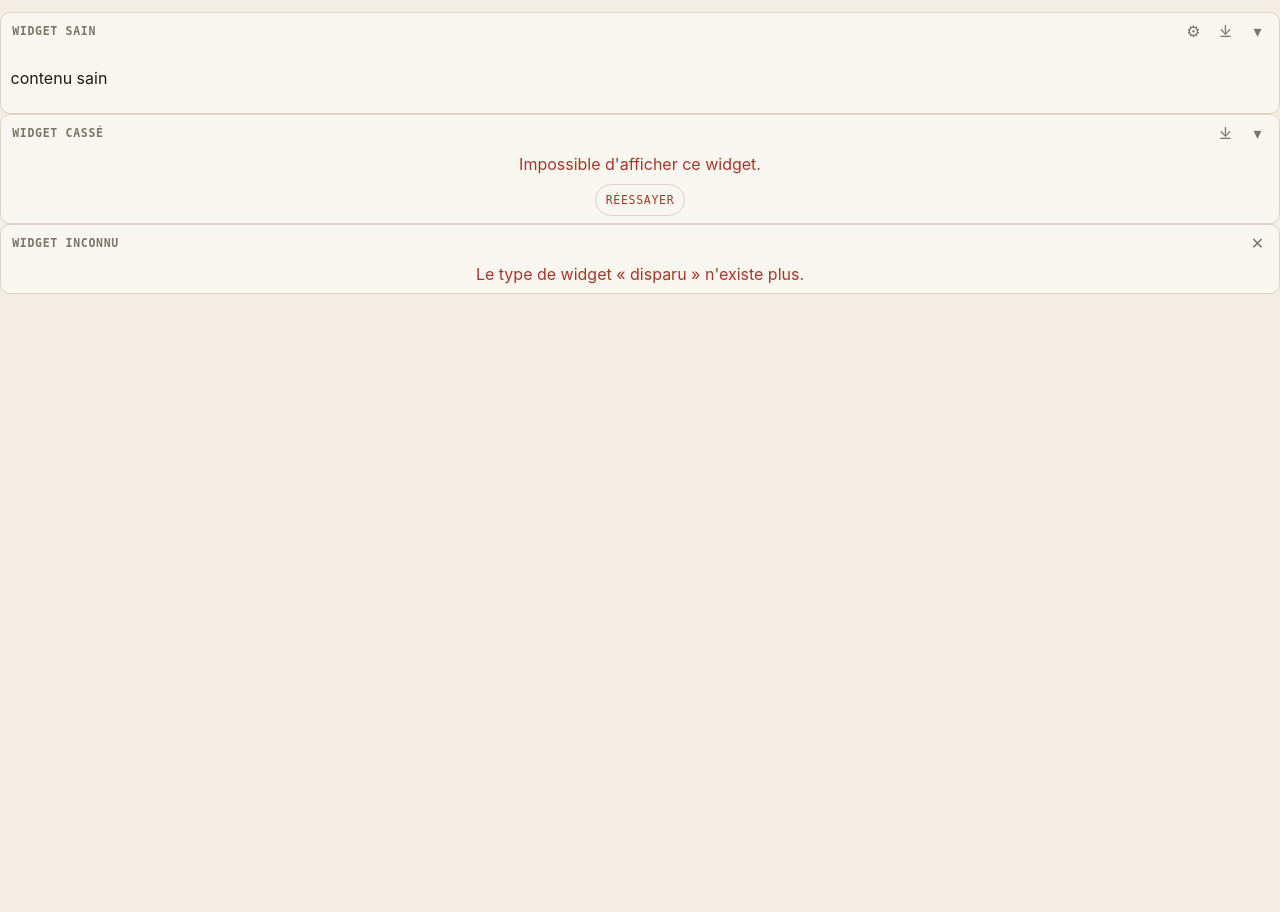
Scenario: WidgetFrame › le bouton d'export appelle exportData et copie le résultat
Click the button named "Exporter : Widget sain". click: (1225, 31)
box: [1209, 15, 1241, 47]
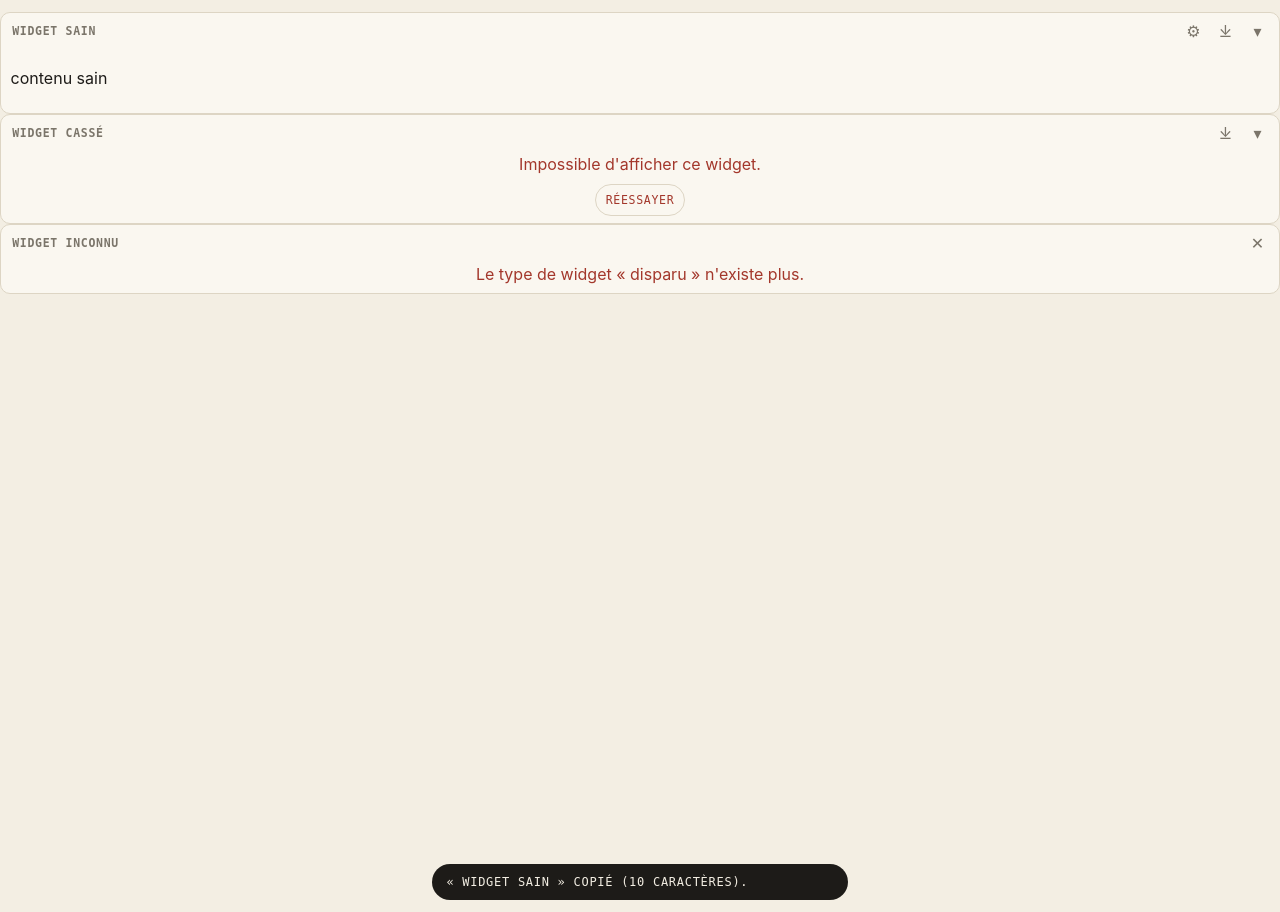
expect the text "« Widget sain » copié (10 caractères)." is shown: met, box [432, 864, 848, 900]
Click the button named "Exporter : Widget cassé". click: (1225, 133)
box: [1209, 117, 1241, 149]
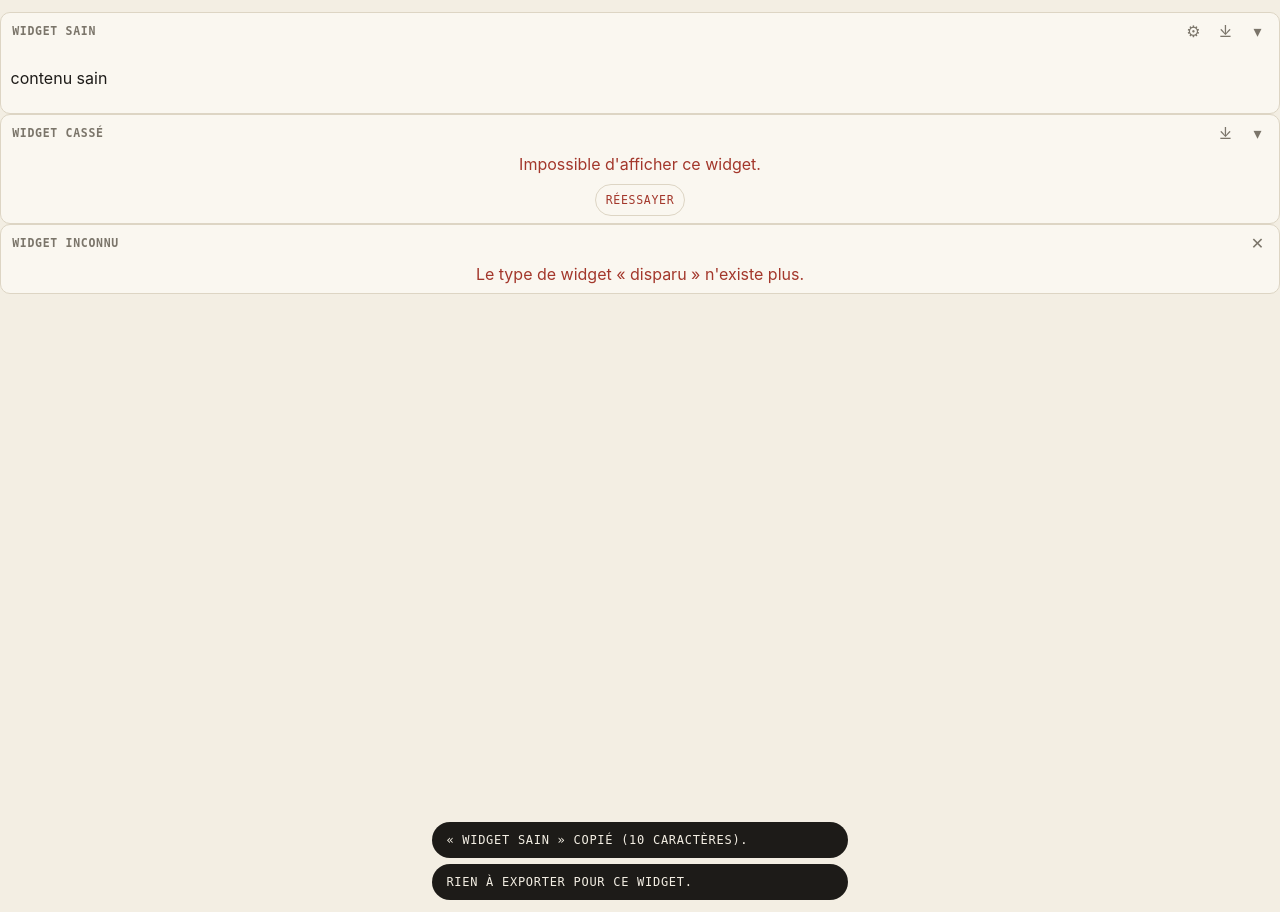
expect the text "Rien à exporter pour ce widget." is shown: met, box [432, 864, 848, 900]
